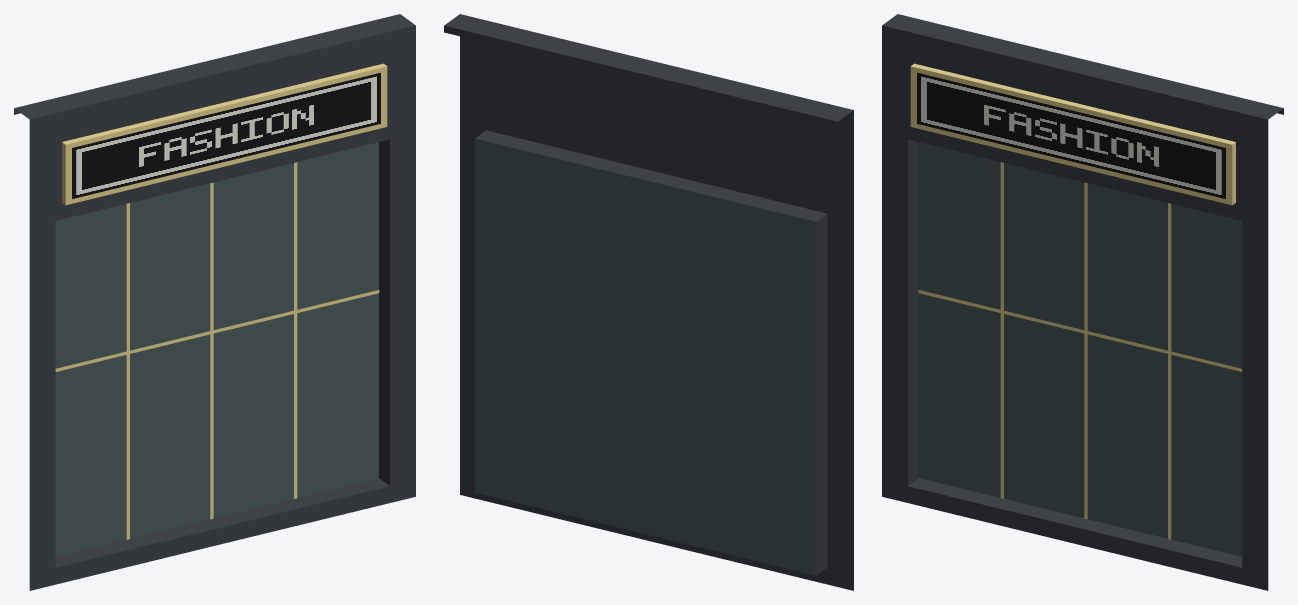
3 views of the same model, side by side, from view 1: azimuth 30°, elevation 25°; view 2: azimuth 150°, elevation 25°; view 3: azimuth 330°, elevation 25° (orthographic). The views are drawn at different scales.
Visible parts, largest first — view 1: a2009/800/base-w1; view 2: a2009/800/base-w1; view 3: a2009/800/base-w1.
Boxes of the visible parts, bbox=[...] form: a2009/800/base-w1: bbox=[14, 14, 415, 590]; a2009/800/base-w1: bbox=[444, 14, 853, 590]; a2009/800/base-w1: bbox=[882, 14, 1283, 590].
Bounding box in the file's own units: 6 × 7 × 0.522.
